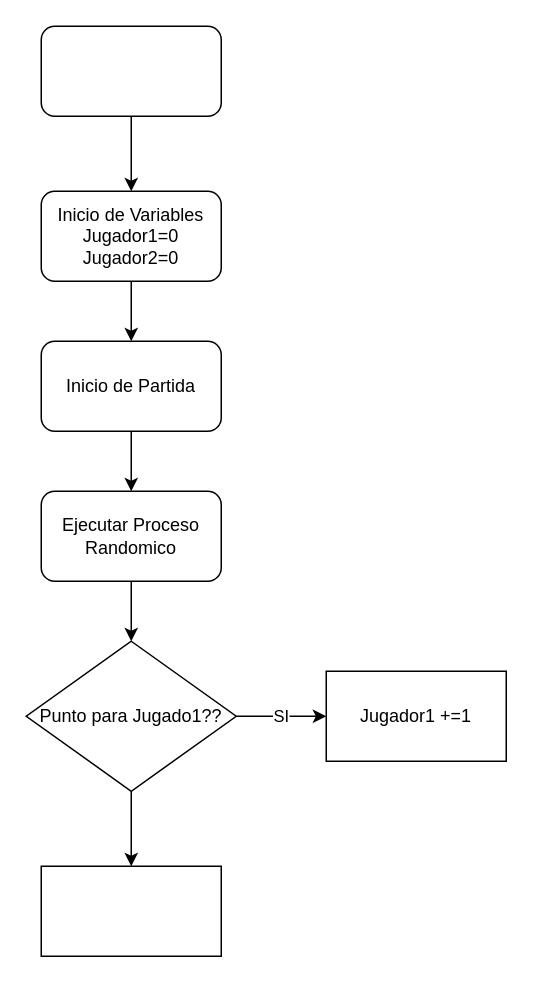
The diagram is 533 pixels wide and 983 high, and some of its shapes have lost their labels. The shapes that lost their labels are listed below. From the top down, each one's box as (x1, y1, x2, y2) in pixels, then its label:
(40, 25, 221, 116): Inicio
(40, 865, 221, 956): Jugador2+=1
